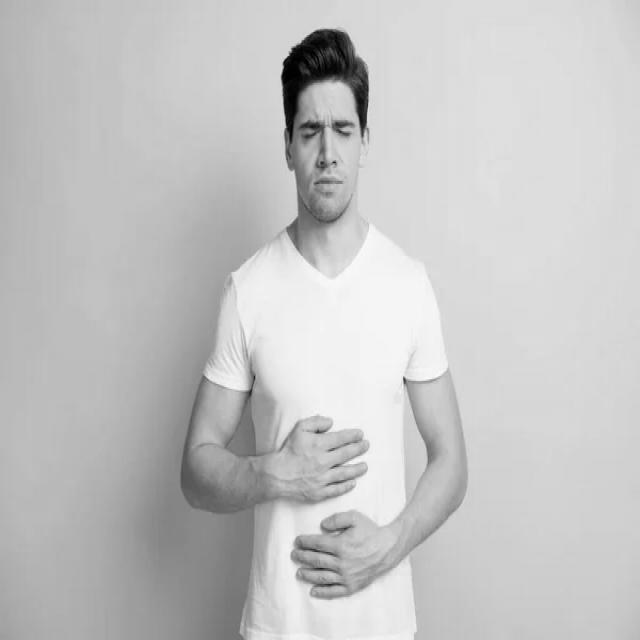real: (285, 81, 367, 223), (296, 112, 366, 156)
